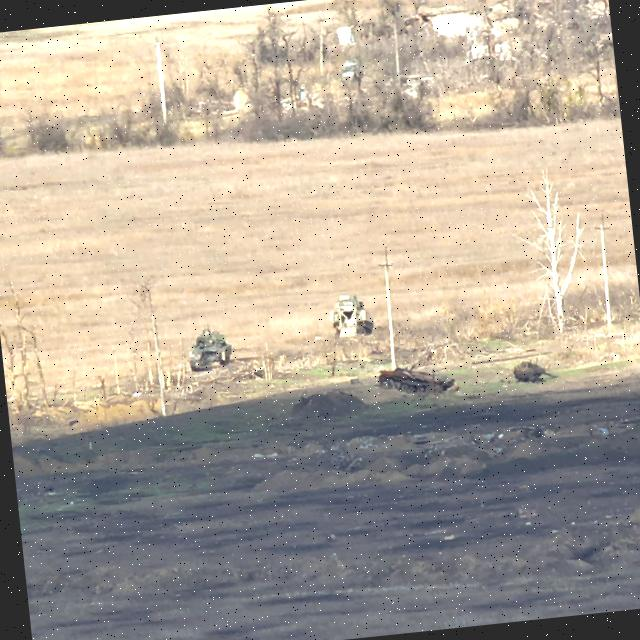AIFV: (376, 358, 452, 401), (185, 327, 237, 374), (327, 293, 371, 337)
